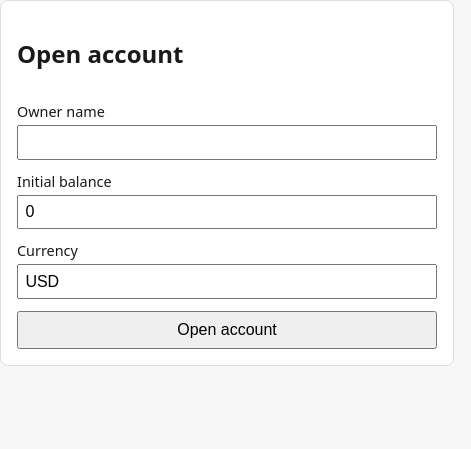
Test: OpenAccountForm › shows the backend error message when opening fails
In the field labelled "Owner name": (227, 142) [17, 125, 437, 160], type "Ada"
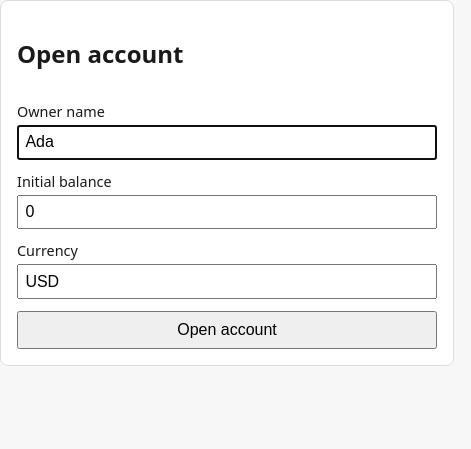
Click the button "Open account": click(227, 330) [17, 311, 437, 349]
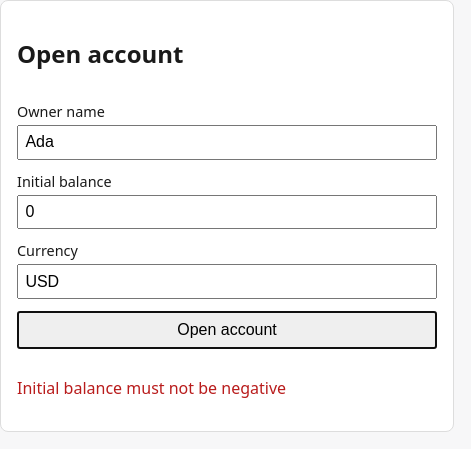
Expected: the text "Initial balance must not be negative" is shown, [17, 377, 286, 399]
